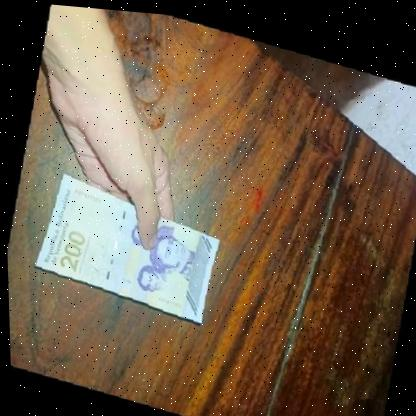two_hundred-front-vef: (26, 166, 224, 324)
